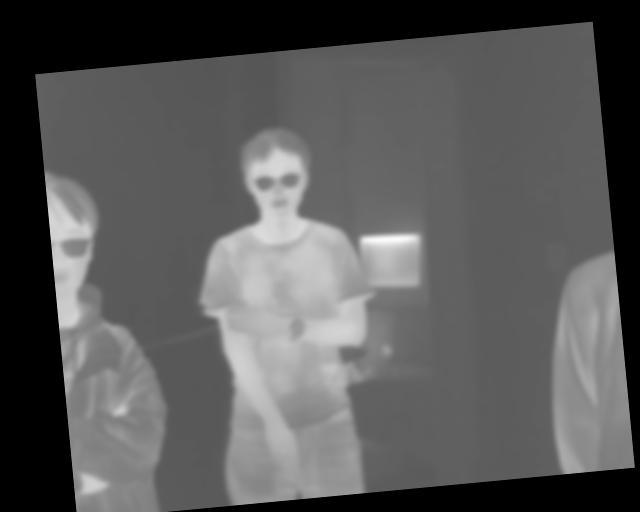face: (236, 123, 316, 222)
